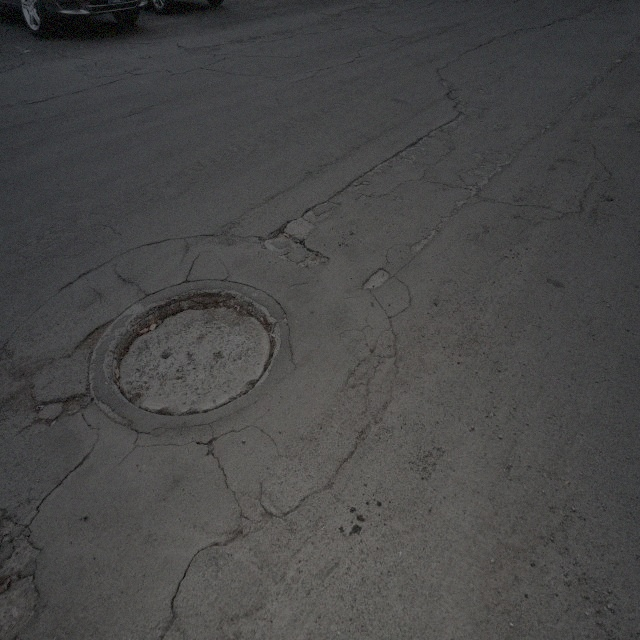pothole: (98, 285, 287, 428), (266, 199, 327, 275), (368, 262, 392, 292)
